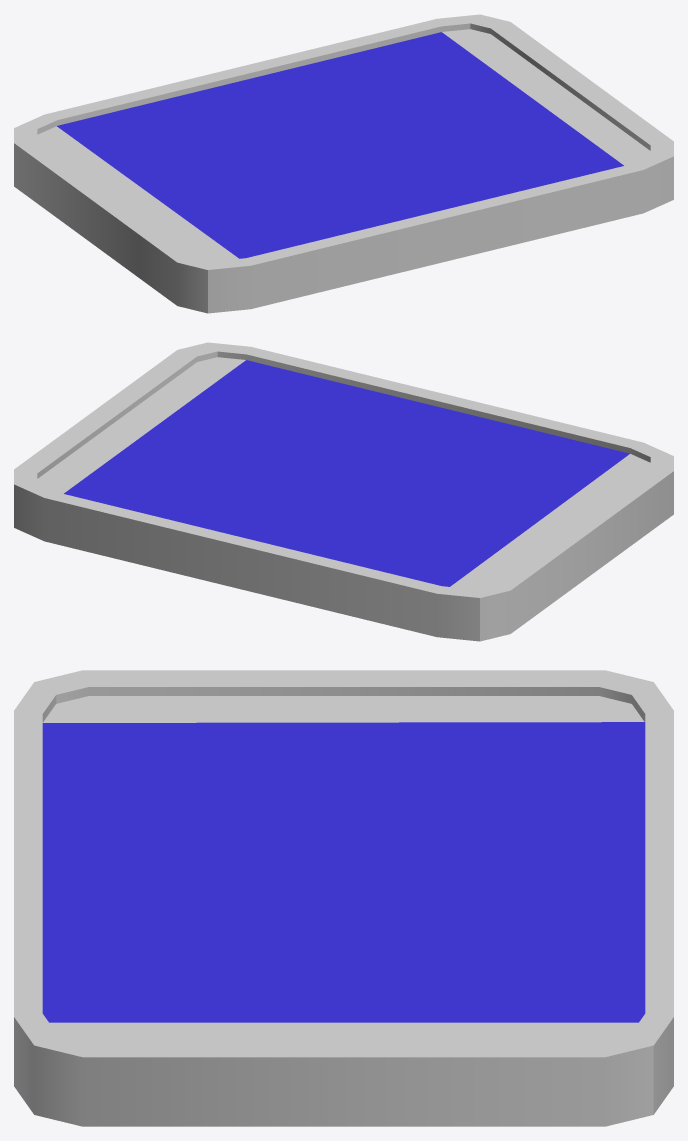
Rendered from tablet.fbx.
3 views of the same model, one above another, from view 1: azimuth 30°, elevation 25°; view 2: azimuth 150°, elevation 25°; view 3: azimuth 270°, elevation 25° (orthographic). The views are drawn at different scales.
Parts seen in each view (by area): view 1: Cube; view 2: Cube; view 3: Cube.
Part boxes in pixels (<box>): Cube: <box>14,14,673,313</box>; Cube: <box>14,342,673,641</box>; Cube: <box>14,670,673,1126</box>.
Size of the model in its own units: 125 by 12.34 by 90.04.
